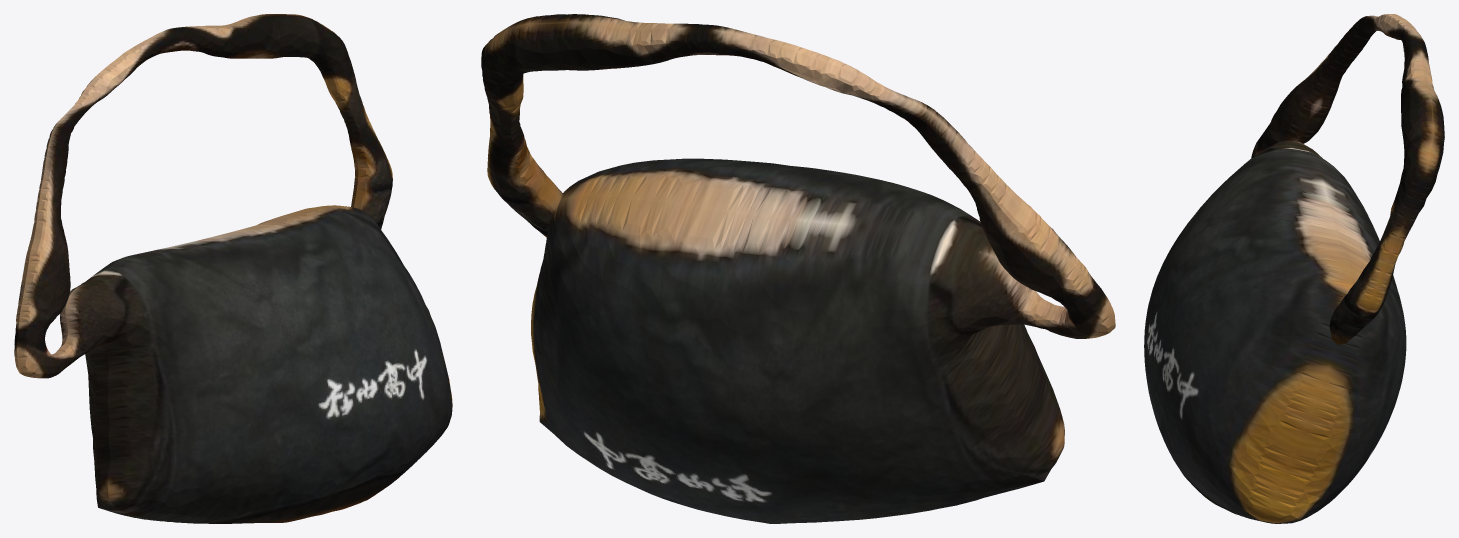
The model's file is bag3.glb.
3 renders of one model, left to right at view 1: azimuth 30°, elevation 25°; view 2: azimuth 150°, elevation 25°; view 3: azimuth 270°, elevation 25°, orthographic. The views are drawn at different scales.
Visible parts, largest first — view 1: 1254c9a3-f63f-4c14-9c9a-9ff9cf4a5985; view 2: 1254c9a3-f63f-4c14-9c9a-9ff9cf4a5985; view 3: 1254c9a3-f63f-4c14-9c9a-9ff9cf4a5985.
Boxes of the visible parts, x1=… form: 1254c9a3-f63f-4c14-9c9a-9ff9cf4a5985: x1=14, y1=14, x2=452, y2=523; 1254c9a3-f63f-4c14-9c9a-9ff9cf4a5985: x1=481, y1=14, x2=1115, y2=523; 1254c9a3-f63f-4c14-9c9a-9ff9cf4a5985: x1=1144, y1=14, x2=1444, y2=523.
Size of the model in its own units: 1.02 by 0.98 by 0.6182.
Materials: 1 (1 with a texture image).
